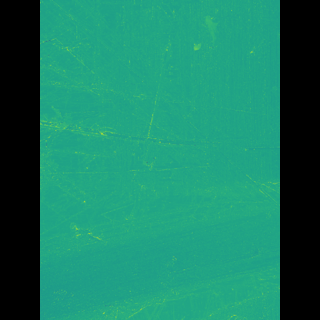Loch: (70, 0, 178, 320), (70, 174, 251, 320)
